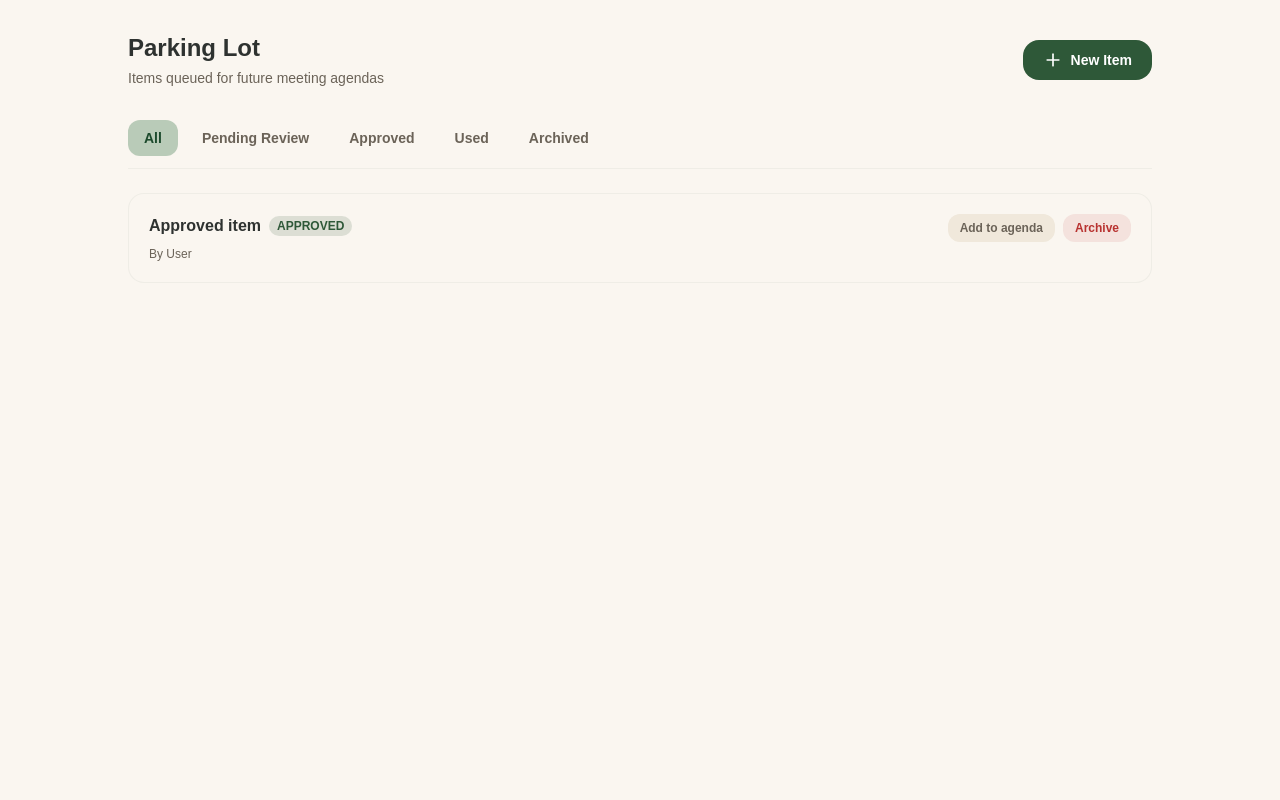
Test: Parking Lot — Add-to-Agenda controls › 2. Quick meetings never appear in target picker
# Click "Add to agenda" to open the picker
What coordinates should you click on to do the following:
click the button "Add to agenda"
I would click on:
 (1001, 228)
Its box is x1=948 y1=214 x2=1055 y2=242.
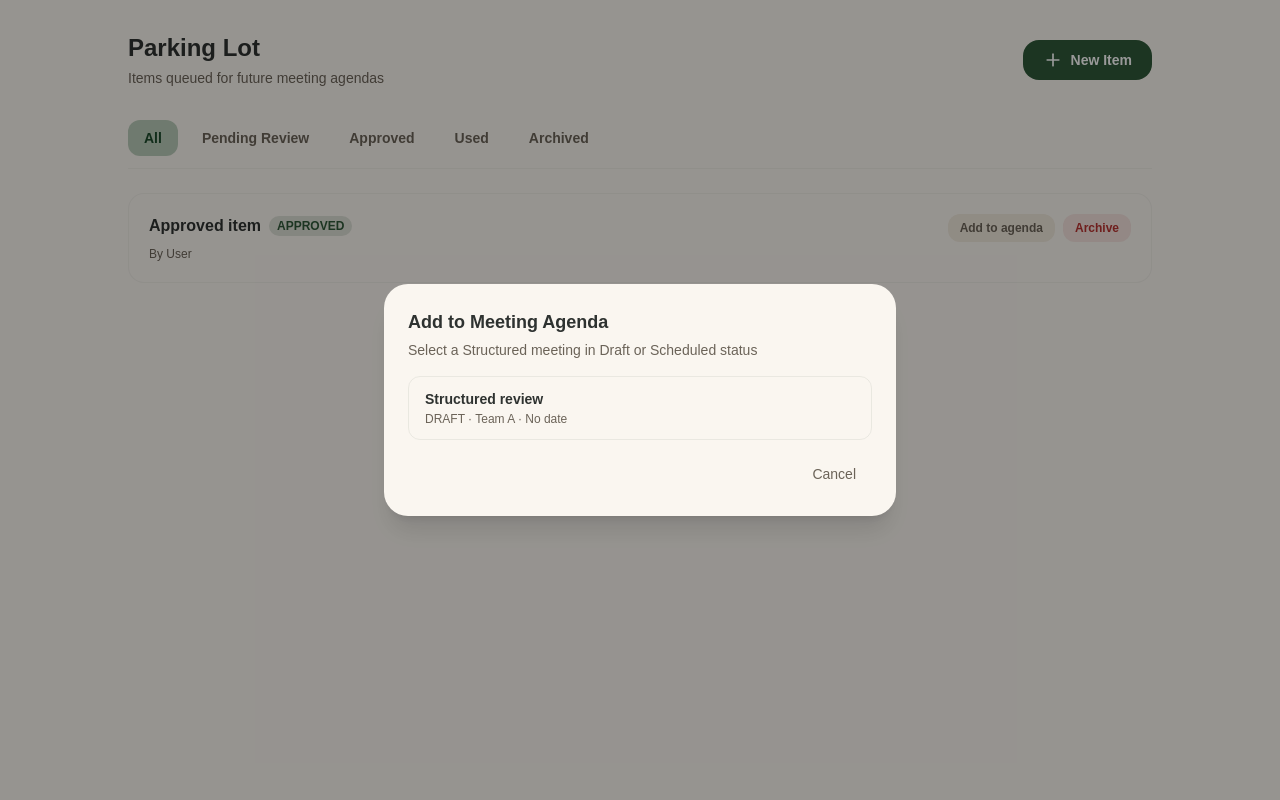
Now the text "Structured review" is shown, box x1=425 y1=391 x2=543 y2=407
